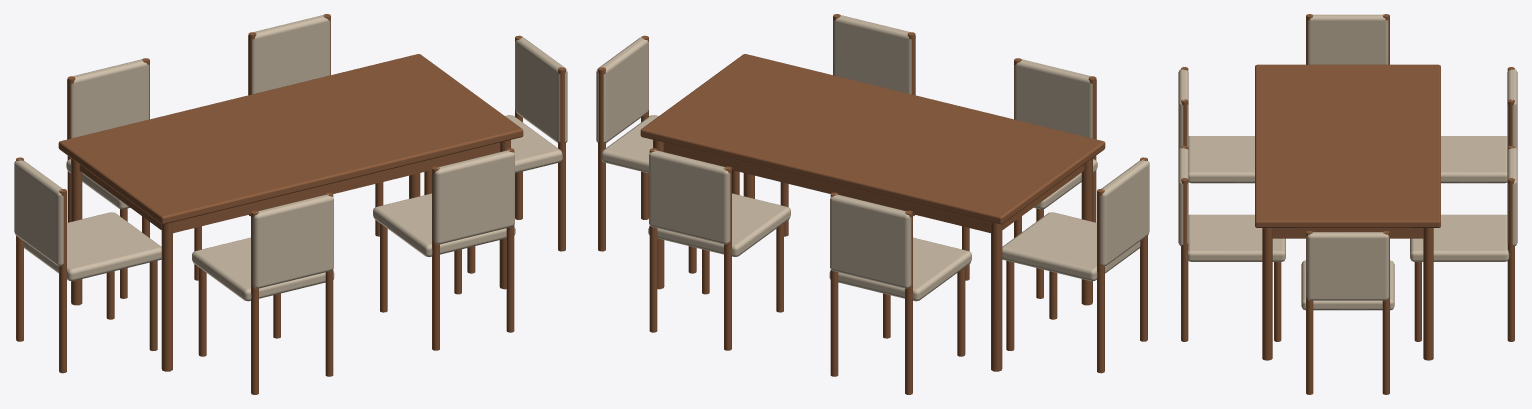
3 views of the same model, side by side, from view 1: azimuth 30°, elevation 25°; view 2: azimuth 150°, elevation 25°; view 3: azimuth 270°, elevation 25° (orthographic). The views are drawn at different scales.
Parts seen in each view (by area): view 1: top, chair-back-2-back, chair-back-1-back, chair-front-2-back, chair-front-1-back, chair-end-left-seat, apron, chair-end-left-back, chair-end-right-back, chair-back-1-seat, chair-back-2-seat, leg-3 (+15 smaller); view 2: top, chair-front-2-back, chair-front-1-back, chair-back-2-back, chair-back-1-back, chair-end-left-seat, apron, chair-end-left-back, chair-end-right-back, chair-front-1-seat, chair-front-2-seat, leg-1 (+15 smaller); view 3: top, chair-end-right-back, chair-end-left-back, chair-back-2-seat, chair-front-2-seat, chair-back-1-seat, chair-front-1-seat, leg-2, leg-4, chair-end-right-seat, chair-back-2-leg-back-right, chair-front-2-leg-back-left (+9 smaller).
Part boxes in pixels (left/top/right/bottom): top: left=58, top=54, right=523, bottom=224; chair-back-2-back: left=433, top=150, right=514, bottom=244; chair-back-1-back: left=252, top=194, right=333, bottom=288; chair-front-2-back: left=248, top=15, right=330, bottom=95; chair-front-1-back: left=67, top=59, right=149, bottom=139; chair-end-left-seat: left=23, top=212, right=161, bottom=281; apron: left=79, top=142, right=500, bottom=233; chair-end-left-back: left=14, top=159, right=63, bottom=266; chair-end-right-back: left=515, top=37, right=567, bottom=142; chair-back-1-seat: left=192, top=237, right=334, bottom=301; chair-back-2-seat: left=373, top=193, right=515, bottom=256; leg-3: left=161, top=222, right=172, bottom=371; top: left=640, top=54, right=1105, bottom=224; chair-front-2-back: left=649, top=150, right=730, bottom=244; chair-front-1-back: left=830, top=194, right=911, bottom=288; chair-back-2-back: left=833, top=15, right=915, bottom=95; chair-back-1-back: left=1014, top=59, right=1096, bottom=139; chair-end-left-seat: left=1002, top=212, right=1140, bottom=281; apron: left=663, top=142, right=1084, bottom=233; chair-end-left-back: left=1100, top=159, right=1149, bottom=266; chair-end-right-back: left=596, top=37, right=648, bottom=142; chair-front-1-seat: left=829, top=237, right=971, bottom=301; chair-front-2-seat: left=648, top=193, right=790, bottom=256; leg-1: left=991, top=222, right=1002, bottom=371; top: left=1255, top=64, right=1440, bottom=227; chair-end-right-back: left=1306, top=232, right=1389, bottom=300; chair-end-left-back: left=1307, top=14, right=1388, bottom=64; chair-back-2-seat: left=1186, top=214, right=1285, bottom=261; chair-front-2-seat: left=1410, top=214, right=1509, bottom=261; chair-back-1-seat: left=1188, top=136, right=1254, bottom=183; chair-front-1-seat: left=1441, top=136, right=1507, bottom=183; leg-2: left=1423, top=228, right=1433, bottom=360; leg-4: left=1262, top=228, right=1272, bottom=360; chair-end-right-seat: left=1301, top=260, right=1394, bottom=310; chair-back-2-leg-back-right: left=1181, top=178, right=1188, bottom=341; chair-front-2-leg-back-left: left=1507, top=178, right=1514, bottom=341.
Size of the model in its own units: 2.54 by 0.86 by 1.64.
